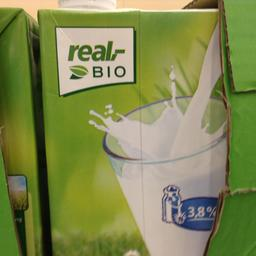milk: (33, 0, 232, 255)
